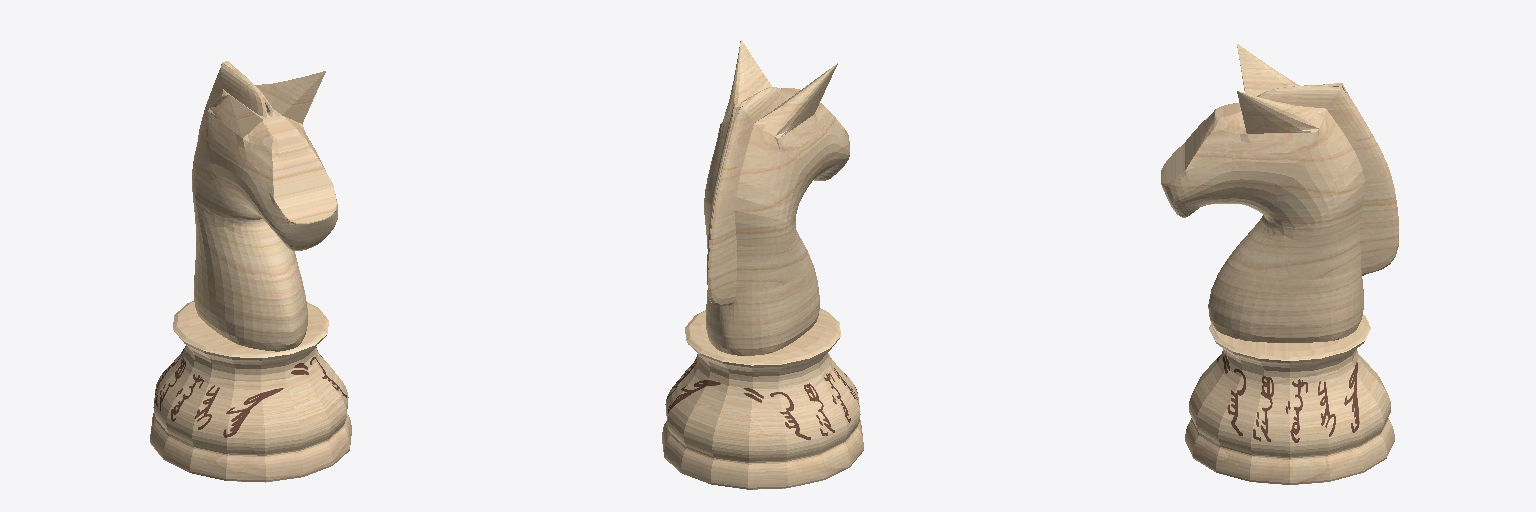
3 renders of one model, left to right at view 1: azimuth 30°, elevation 25°; view 2: azimuth 150°, elevation 25°; view 3: azimuth 270°, elevation 25°, orthographic.
Visible parts, largest first — view 1: Caballo; view 2: Caballo; view 3: Caballo.
Part boxes in pixels (left/top/right/bottom): Caballo: left=150, top=61, right=351, bottom=482; Caballo: left=662, top=40, right=863, bottom=489; Caballo: left=1161, top=44, right=1398, bottom=484.
Size of the model in its own units: 0.373 by 0.7685 by 0.4406.
Materials: 2 (2 with a texture image).